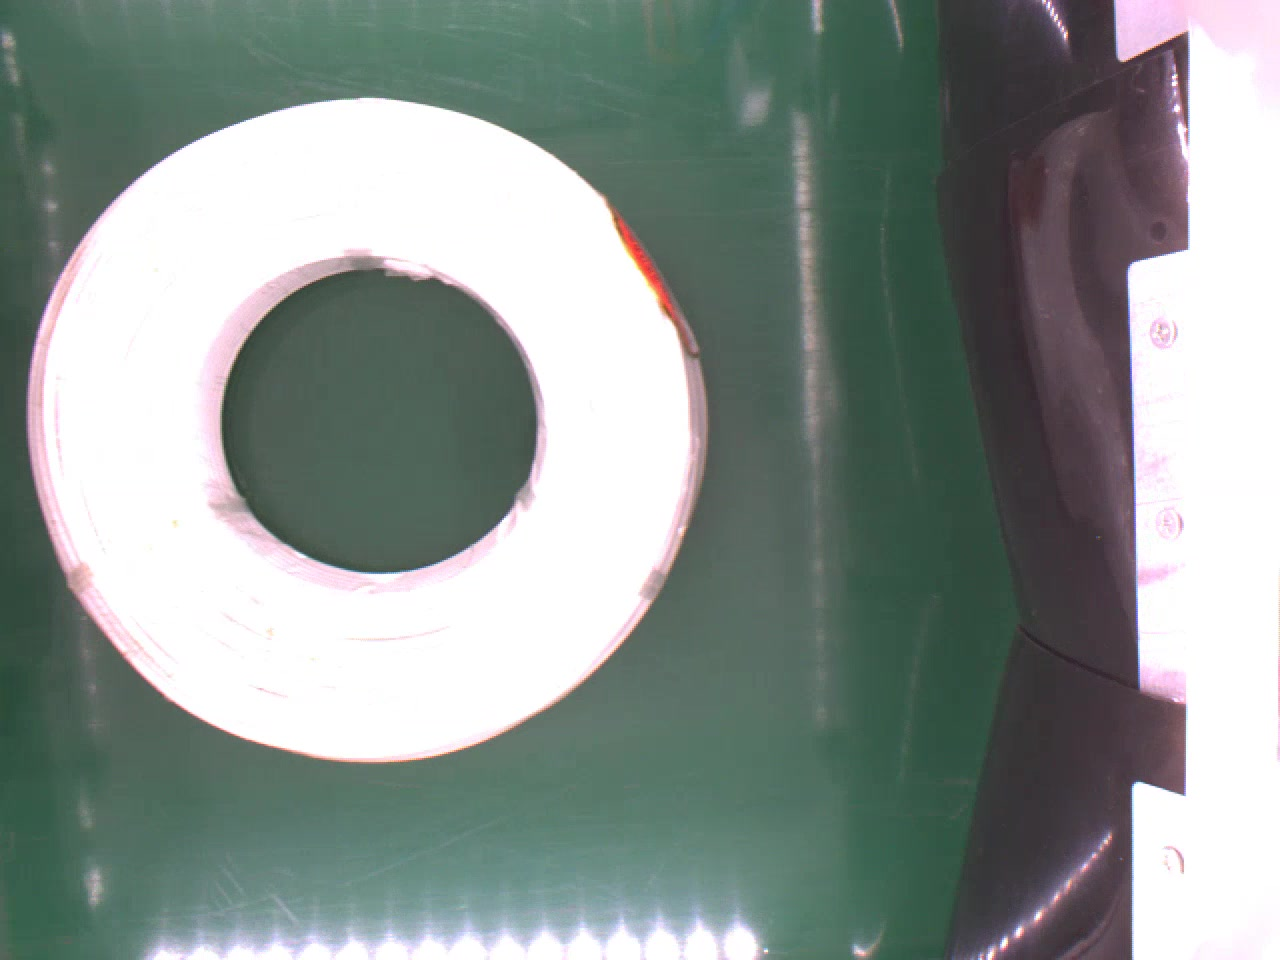white: (26, 94, 717, 769)
